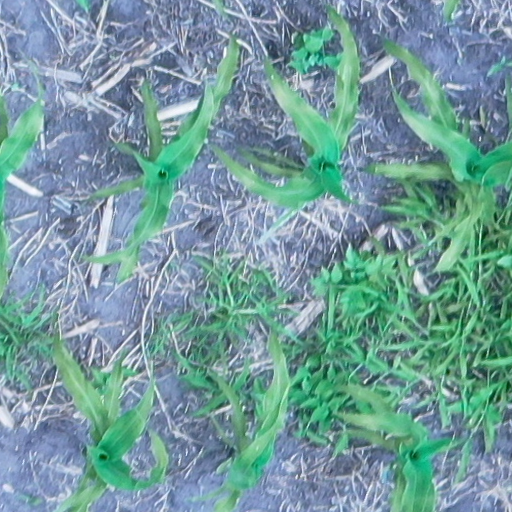planta: (81, 34, 239, 283), (212, 2, 360, 244)
